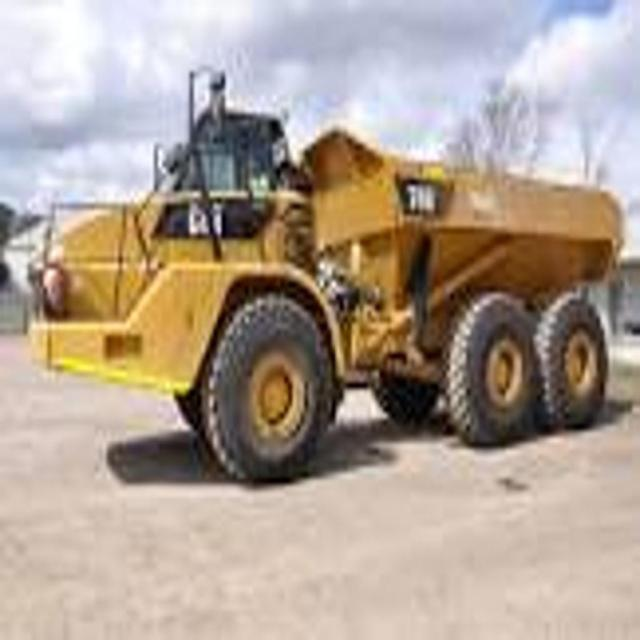dump_truck: (27, 49, 624, 476)
